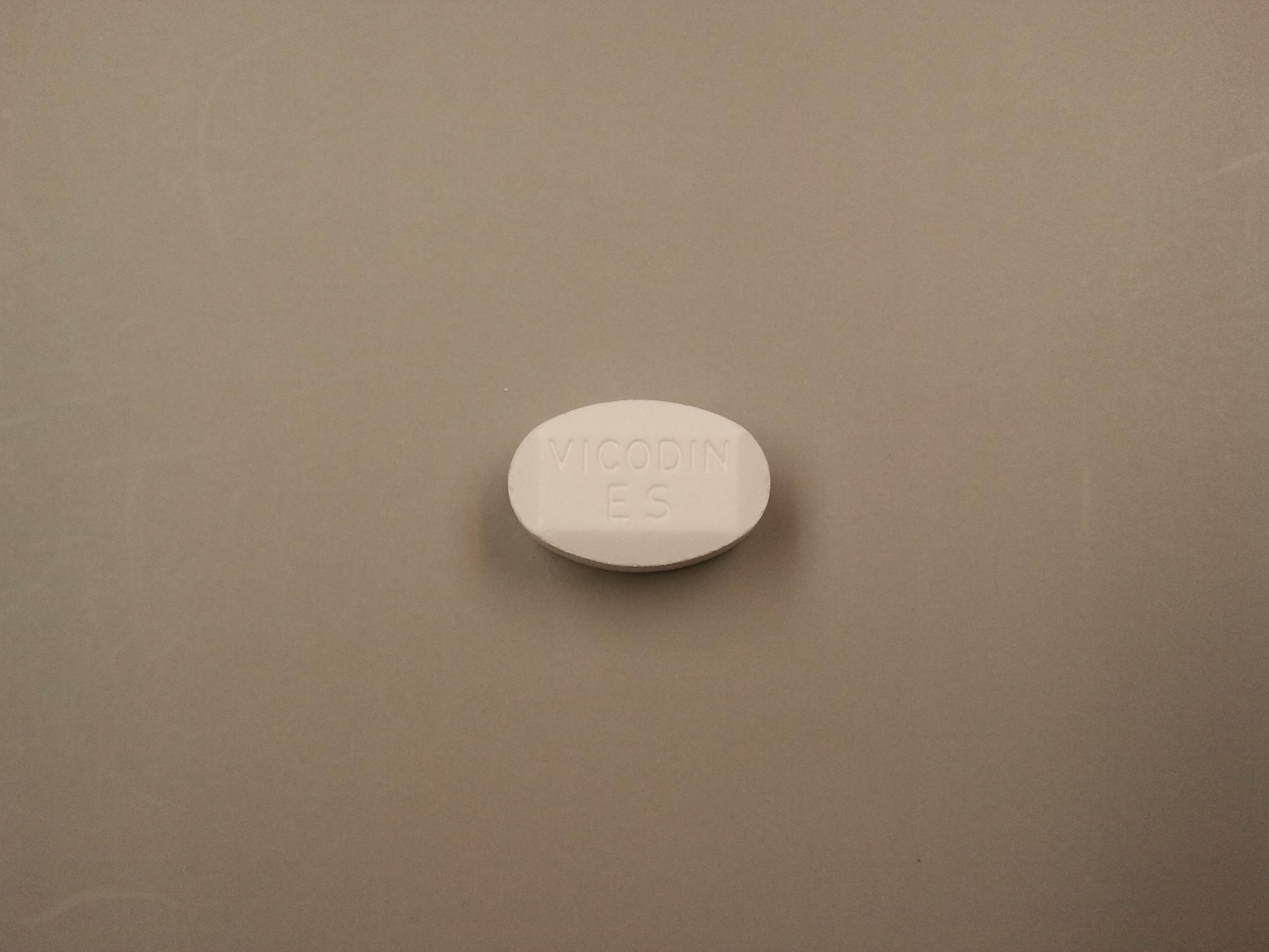Pill: (492, 364, 750, 589)
